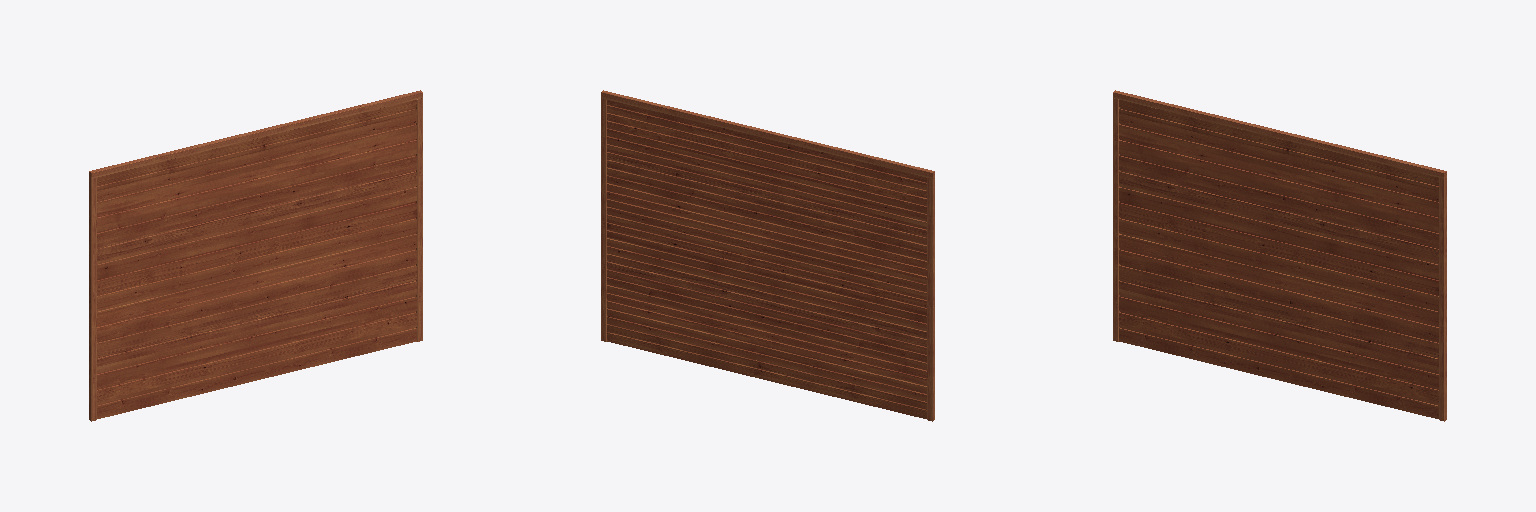
3 renders of one model, left to right at view 1: azimuth 30°, elevation 25°; view 2: azimuth 150°, elevation 25°; view 3: azimuth 330°, elevation 25°, orthographic.
Parts seen in each view (by area): view 1: wall_planks, trim_top, trim_left, trim_right; view 2: wall_planks, trim_top, trim_left, trim_right; view 3: wall_planks, trim_top, trim_right, trim_left.
Part boxes in pixels (x1,y1,x2,y2): wall_planks: (97, 100, 416, 418); trim_top: (89, 90, 422, 178); trim_left: (89, 178, 96, 421); trim_right: (416, 98, 422, 341); wall_planks: (607, 100, 926, 418); trim_top: (601, 90, 934, 178); trim_left: (927, 178, 934, 421); trim_right: (601, 98, 607, 341); wall_planks: (1119, 100, 1438, 418); trim_top: (1113, 90, 1446, 178); trim_right: (1439, 178, 1446, 421); trim_left: (1113, 98, 1119, 341).
Size of the model in its own units: 132 by 94.5 by 1.82.
Materials: 2 (2 with a texture image).